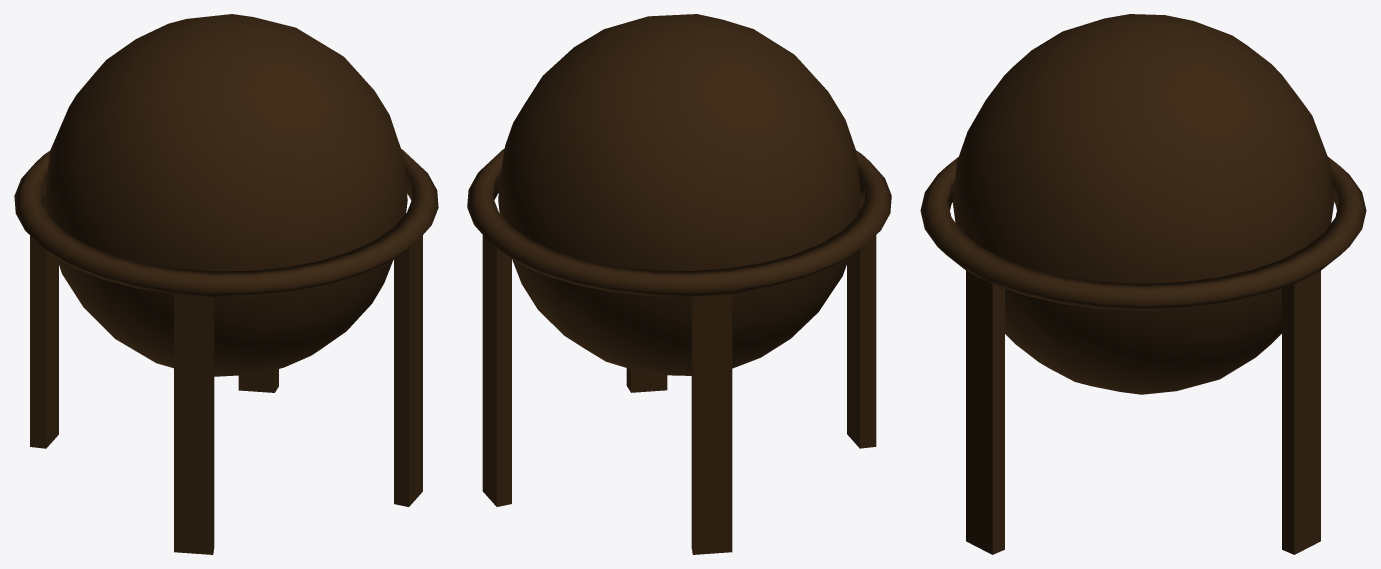
The model's file is Globe(OneMat).fbx.
3 renders of one model, left to right at view 1: azimuth 30°, elevation 25°; view 2: azimuth 150°, elevation 25°; view 3: azimuth 270°, elevation 25°, orthographic. The views are drawn at different scales.
Parts seen in each view (by area): view 1: Globe(OneMat); view 2: Globe(OneMat); view 3: Globe(OneMat).
Boxes of the visible parts, box(x1,y1,x2,y2) form: Globe(OneMat): box(14, 14, 438, 554); Globe(OneMat): box(467, 14, 891, 554); Globe(OneMat): box(920, 14, 1366, 554).
Size of the model in its own units: 2.34 by 2.66 by 2.34.
